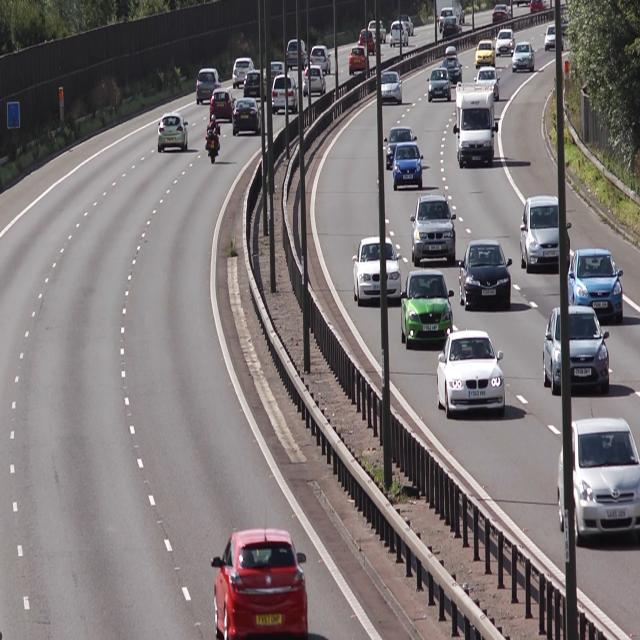Car: (212, 531, 318, 640), (556, 416, 640, 545), (434, 331, 509, 421), (544, 302, 613, 398), (519, 193, 575, 274), (568, 246, 624, 325), (401, 270, 456, 350), (459, 237, 515, 313), (352, 236, 406, 308), (456, 80, 500, 167), (410, 192, 460, 266), (392, 144, 427, 193), (156, 110, 190, 156), (270, 71, 298, 117), (233, 99, 263, 139), (378, 65, 405, 107), (212, 85, 234, 124), (198, 66, 219, 104), (429, 69, 453, 102), (512, 41, 536, 73), (302, 64, 326, 96), (285, 38, 309, 68), (474, 38, 497, 68), (232, 53, 252, 87), (349, 46, 372, 75), (311, 44, 332, 75)
